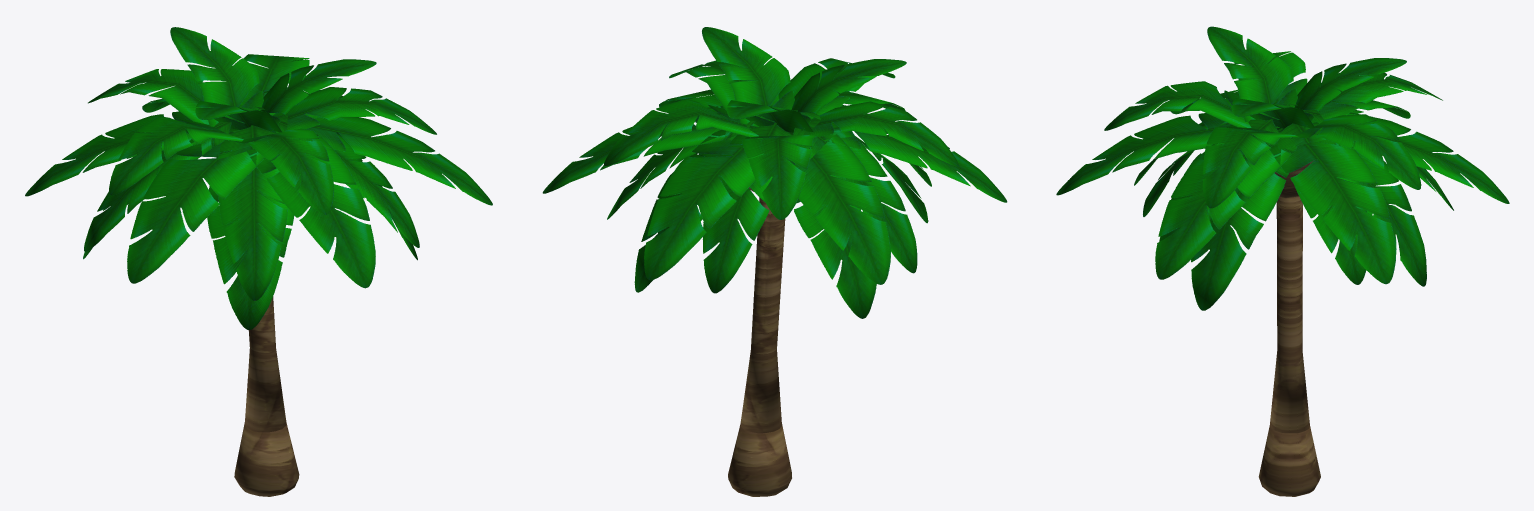
Rendered from PR_Palm_Mid.fbx.
3 renders of one model, left to right at view 1: azimuth 30°, elevation 25°; view 2: azimuth 150°, elevation 25°; view 3: azimuth 270°, elevation 25°, orthographic. The views are drawn at different scales.
Parts seen in each view (by area): view 1: Palm Leaf.018, Palm Leaf.010, Palm Leaf.009, Palm Leaf.017, Plane.009, Plane.016, Palm Leaf.016; view 2: Palm Leaf.018, Palm Leaf.010, Palm Leaf.009, Palm Leaf.017, Plane.009, Palm Leaf.016, Plane.016; view 3: Palm Leaf.018, Palm Leaf.010, Palm Leaf.016, Palm Leaf.017, Plane.009, Palm Leaf.009, Plane.016.
Boxes of the visible parts, left/top/right/bottom form: Palm Leaf.018: left=25, top=87, right=492, bottom=288; Palm Leaf.010: left=88, top=54, right=436, bottom=214; Palm Leaf.009: left=84, top=104, right=419, bottom=300; Palm Leaf.017: left=170, top=27, right=376, bottom=132; Plane.009: left=244, top=296, right=286, bottom=432; Plane.016: left=234, top=422, right=299, bottom=496; Palm Leaf.016: left=83, top=158, right=417, bottom=329; Palm Leaf.018: left=542, top=89, right=1007, bottom=284; Palm Leaf.010: left=604, top=58, right=958, bottom=219; Palm Leaf.009: left=607, top=105, right=931, bottom=293; Palm Leaf.017: left=702, top=27, right=906, bottom=132; Plane.009: left=740, top=197, right=785, bottom=433; Palm Leaf.016: left=634, top=136, right=928, bottom=318; Plane.016: left=728, top=424, right=791, bottom=496; Palm Leaf.018: left=1056, top=89, right=1509, bottom=284; Palm Leaf.010: left=1104, top=51, right=1442, bottom=208; Palm Leaf.016: left=1143, top=150, right=1426, bottom=310; Palm Leaf.017: left=1207, top=26, right=1406, bottom=130; Plane.009: left=1270, top=196, right=1309, bottom=433; Palm Leaf.009: left=1134, top=102, right=1453, bottom=284; Plane.016: left=1258, top=425, right=1320, bottom=496.
Bounding box in the file's own units: 1952 × 1955 × 2026.
